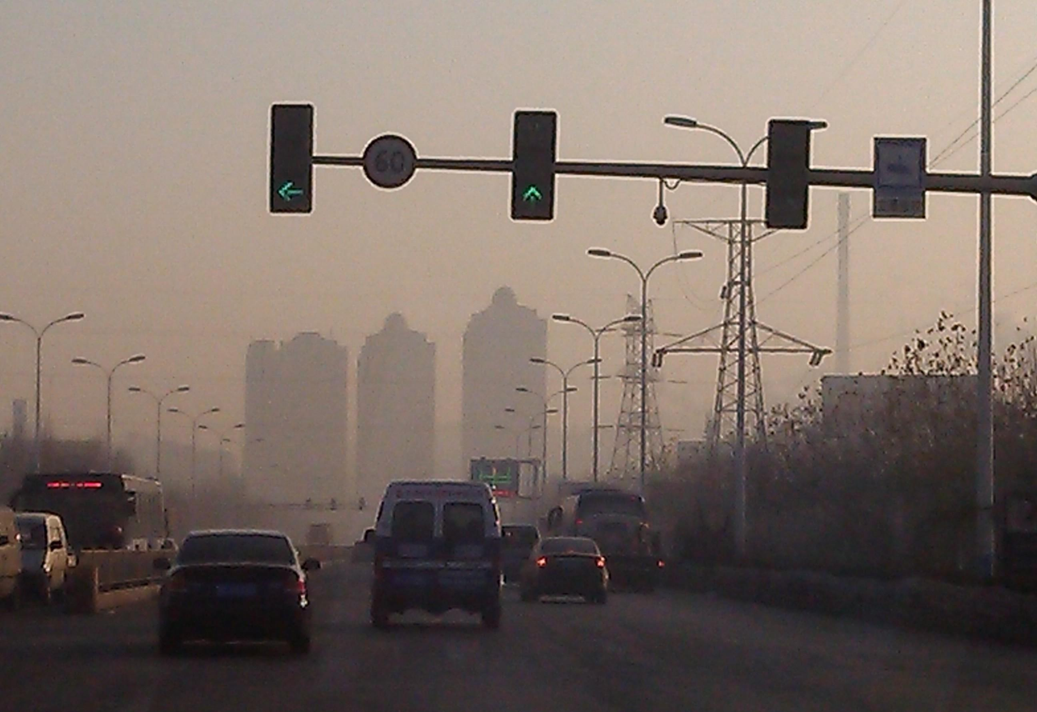bus: (8, 465, 175, 593), (542, 487, 651, 584)
car: (364, 475, 508, 632), (151, 526, 322, 655), (515, 534, 609, 606), (4, 509, 71, 603), (484, 521, 547, 583), (302, 519, 337, 551)
